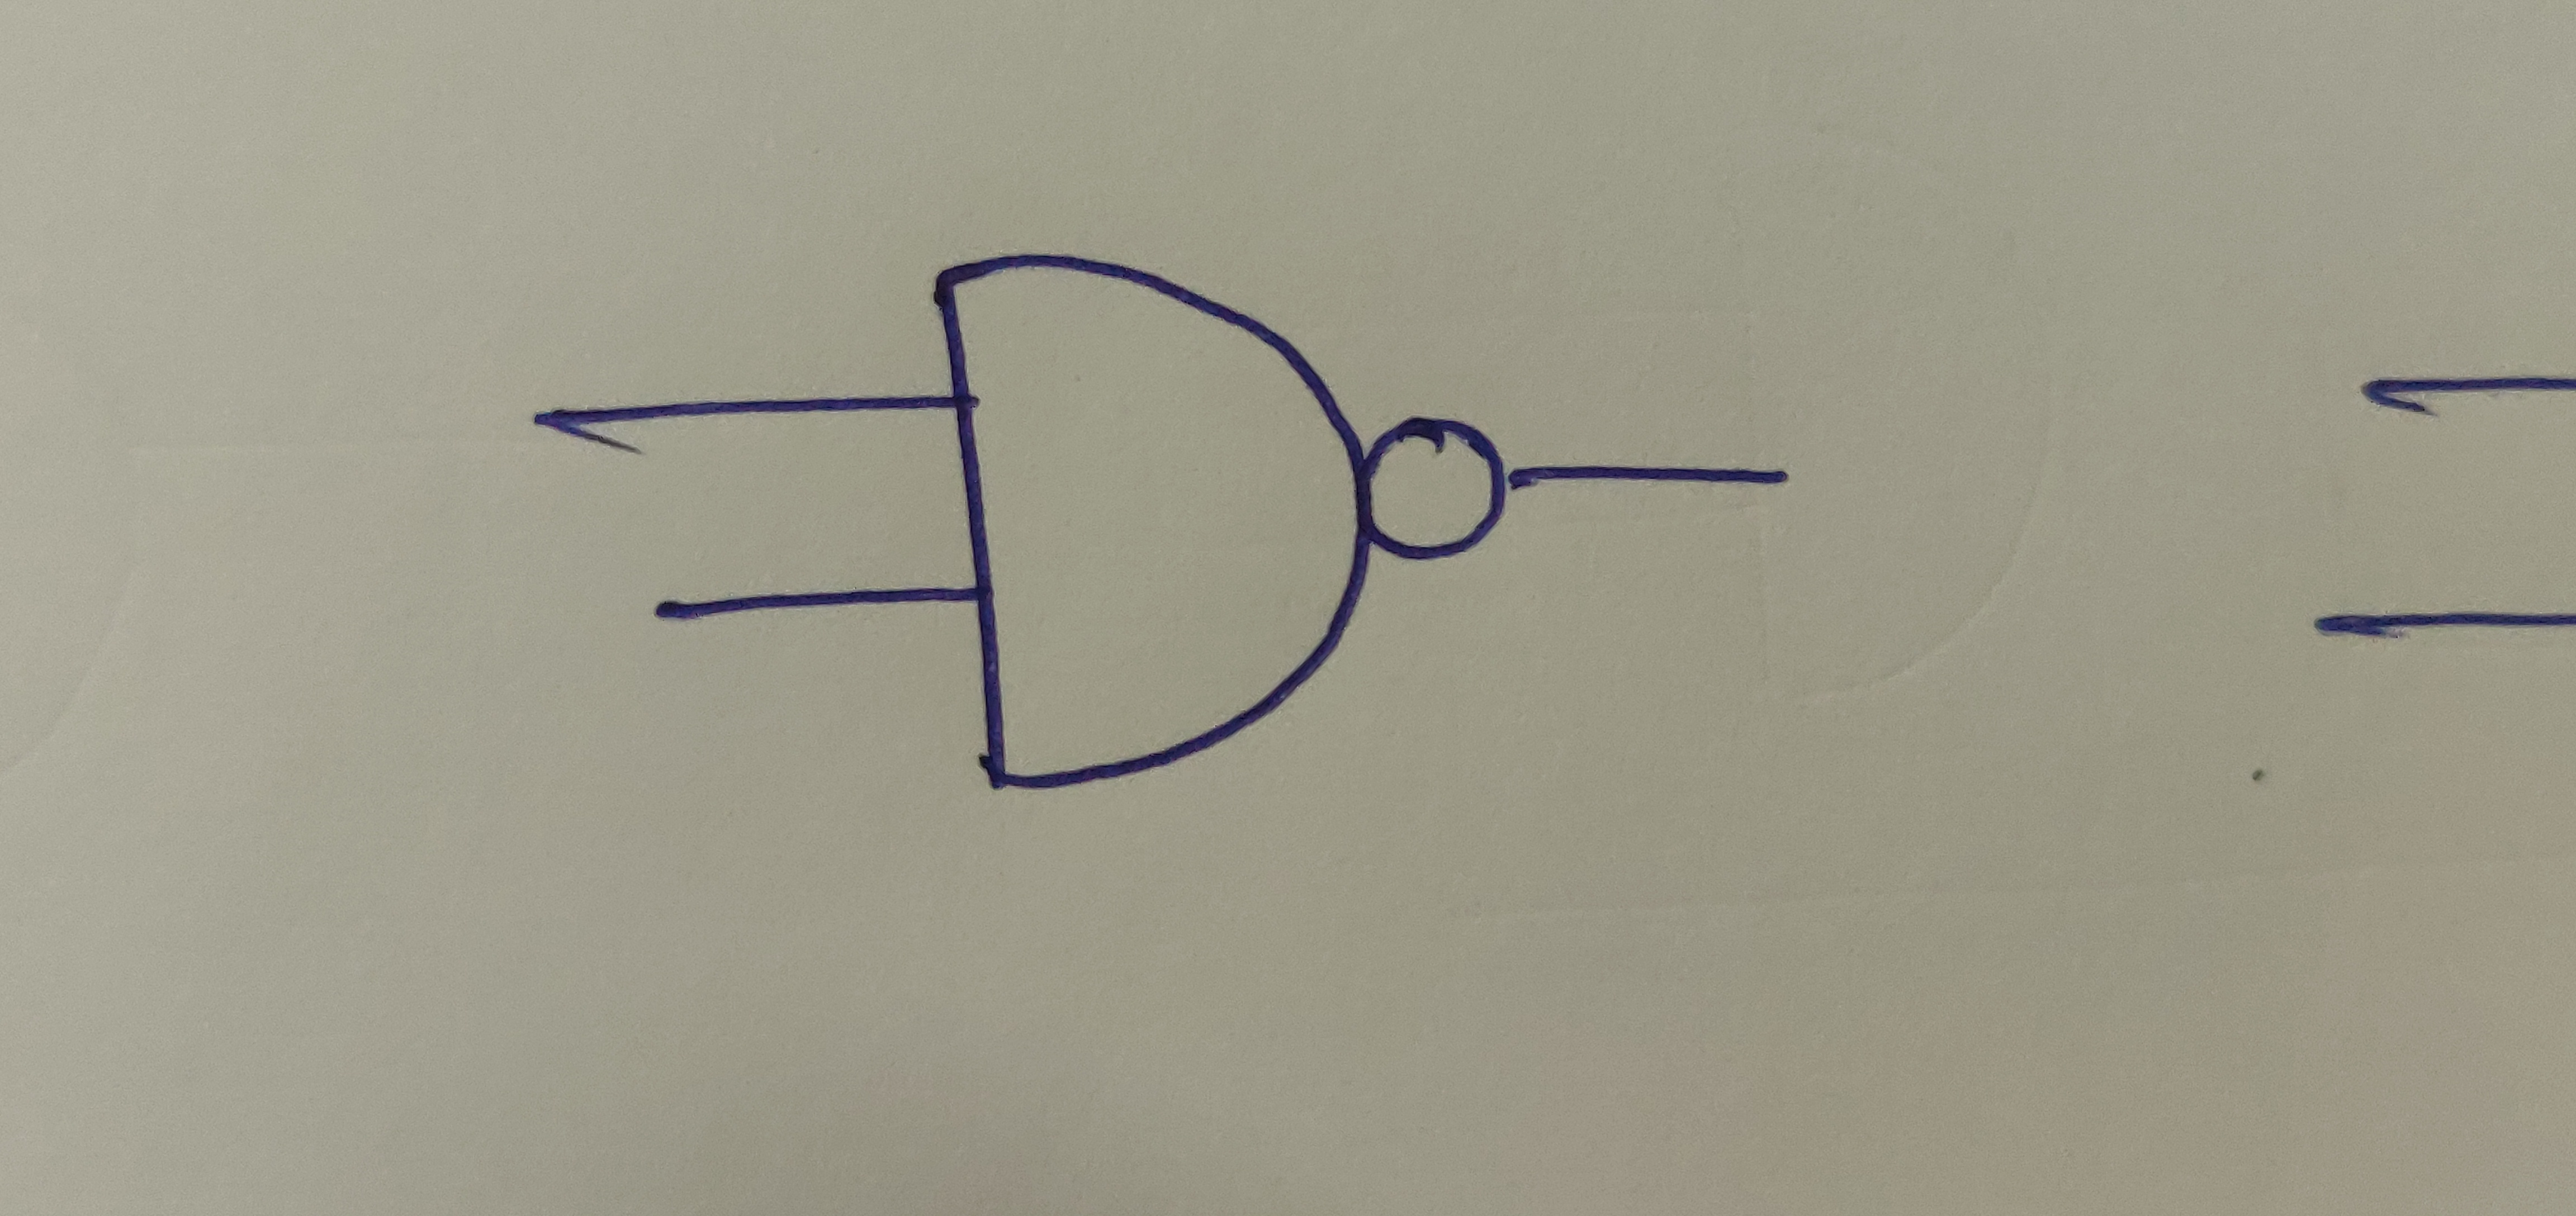and: (932, 253, 1373, 790)
not: (1352, 422, 1516, 560)
